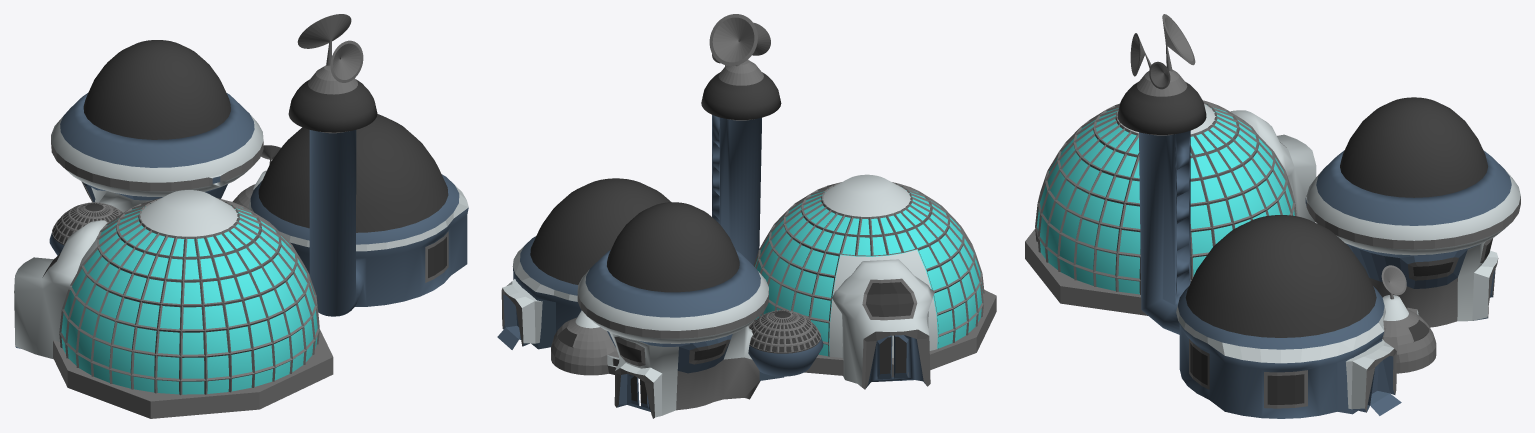
File: Spacioportv03.fbx
The picture shows the model from 3 angles, left to right: view 1: azimuth 30°, elevation 25°; view 2: azimuth 150°, elevation 25°; view 3: azimuth 270°, elevation 25°; orthographic projection. The views are drawn at different scales.
Visible parts, largest first — view 1: spacioport, Sphere, spacioport.002, Sphere.001, Plane.010, spacioport_bigporte.001, spacioport.005, spacioport.006; view 2: spacioport, Sphere, spacioport.002, spacioport_bigporte.001, Sphere.001, spacioport.008, Plane.010, spacioport.005, spacioport_bigporte, spacioport_portegauche.002, spacioport_portegauche.001; view 3: spacioport, spacioport.002, Sphere, Sphere.001, spacioport.008, Plane.010, spacioport_bigporte.001, spacioport_bigporte, spacioport.005, Antenne01, spacioport.006, spacioport.007.
Boxes of the visible parts, x1=… form: spacioport: x1=49, y1=65, x2=468, y2=316; Sphere: x1=61, y1=190, x2=317, y2=394; spacioport.002: x1=52, y1=40, x2=448, y2=245; Sphere.001: x1=59, y1=198, x2=319, y2=395; Plane.010: x1=53, y1=330, x2=333, y2=418; spacioport_bigporte.001: x1=14, y1=220, x2=107, y2=359; spacioport.005: x1=297, y1=14, x2=351, y2=65; spacioport.006: x1=330, y1=40, x2=363, y2=82; spacioport: x1=512, y1=60, x2=823, y2=415; Sphere: x1=755, y1=174, x2=982, y2=357; spacioport.002: x1=530, y1=178, x2=820, y2=353; spacioport_bigporte.001: x1=832, y1=259, x2=934, y2=389; Sphere.001: x1=753, y1=182, x2=984, y2=356; spacioport.008: x1=497, y1=273, x2=555, y2=349; Plane.010: x1=748, y1=290, x2=996, y2=380; spacioport.005: x1=709, y1=14, x2=757, y2=66; spacioport_bigporte: x1=614, y1=360, x2=662, y2=418; spacioport_portegauche.002: x1=894, y1=335, x2=908, y2=378; spacioport_portegauche.001: x1=877, y1=335, x2=892, y2=379; spacioport: x1=1117, y1=69, x2=1520, y2=418; spacioport.002: x1=1185, y1=97, x2=1487, y2=337; Sphere: x1=1037, y1=104, x2=1294, y2=294; Sphere.001: x1=1035, y1=100, x2=1296, y2=294; spacioport.008: x1=1337, y1=339, x2=1401, y2=415; Plane.010: x1=1025, y1=229, x2=1147, y2=315; spacioport_bigporte.001: x1=1230, y1=110, x2=1316, y2=222; spacioport_bigporte: x1=1472, y1=250, x2=1498, y2=320; spacioport.005: x1=1162, y1=14, x2=1195, y2=71; Antenne01: x1=1381, y1=265, x2=1406, y2=299; spacioport.006: x1=1130, y1=33, x2=1151, y2=76; spacioport.007: x1=1149, y1=61, x2=1170, y2=89.
Bounding box in the file's own units: 891 × 613 × 858.
